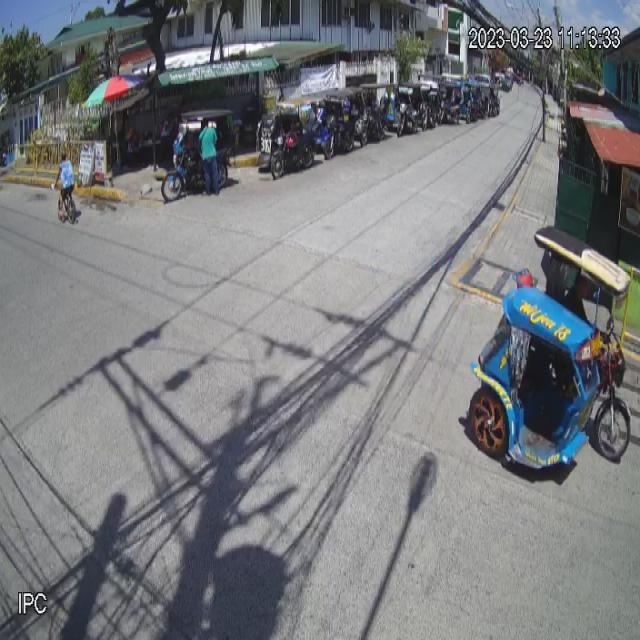Tricycle: (468, 223, 631, 480)
